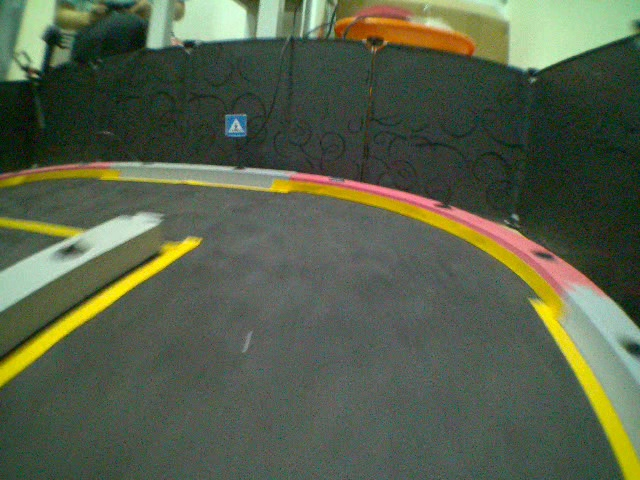crossing: (222, 112, 247, 138)
